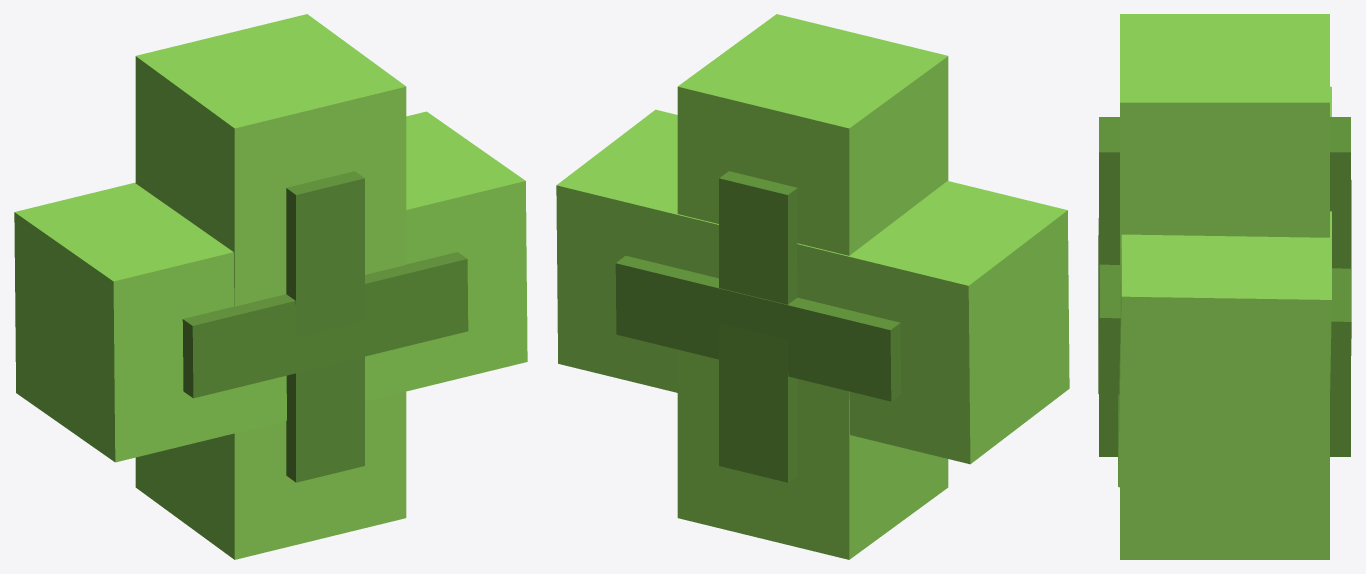
File: Cross.fbx
3 renders of one model, left to right at view 1: azimuth 30°, elevation 25°; view 2: azimuth 150°, elevation 25°; view 3: azimuth 270°, elevation 25°, orthographic. The views are drawn at different scales.
Parts seen in each view (by area): view 1: cube, cube_1, cube_3, cube_2; view 2: cube_1, cube, cube_3, cube_2; view 3: cube, cube_1, cube_3, cube_2.
Boxes of the visible parts, <box> form: cube: <box>135,14,406,559</box>; cube_1: <box>14,111,527,462</box>; cube_3: <box>286,171,364,482</box>; cube_2: <box>182,252,468,398</box>; cube_1: <box>556,109,1069,464</box>; cube: <box>677,14,948,559</box>; cube_3: <box>719,171,797,482</box>; cube_2: <box>615,255,901,401</box>; cube: <box>1120,14,1329,559</box>; cube_1: <box>1118,86,1331,490</box>; cube_3: <box>1099,117,1350,456</box>; cube_2: <box>1098,180,1351,397</box>.
Bounding box in the file's own units: 15 × 15 × 7.54.
1 material, 1 textured.
